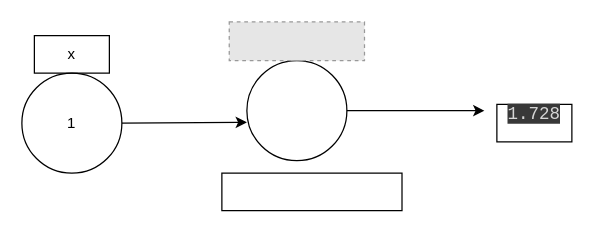
The diagram is 594 pixels wide and 233 high, and some of its shapes have lost their labels. Grey dashed boxes stand in for pictures. Here are the shapes that lost their labels. From the top down, the centre of each, then its label:
At point 296,110: "A b".
At point 311,191: "y = 1*0.86+0.868".
